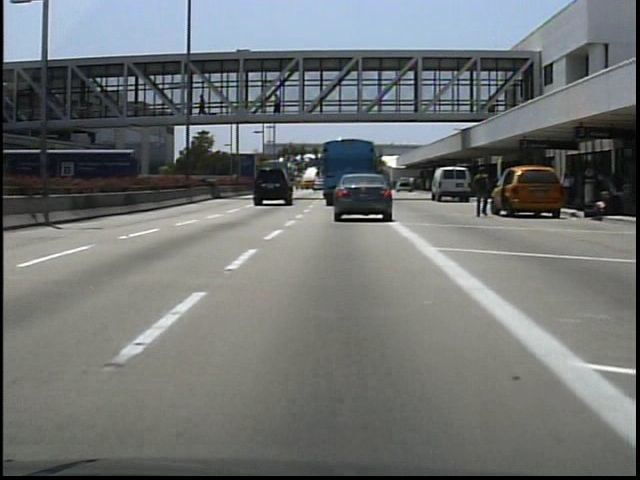person: (469, 161, 495, 222), (270, 91, 285, 120), (196, 91, 211, 119)
